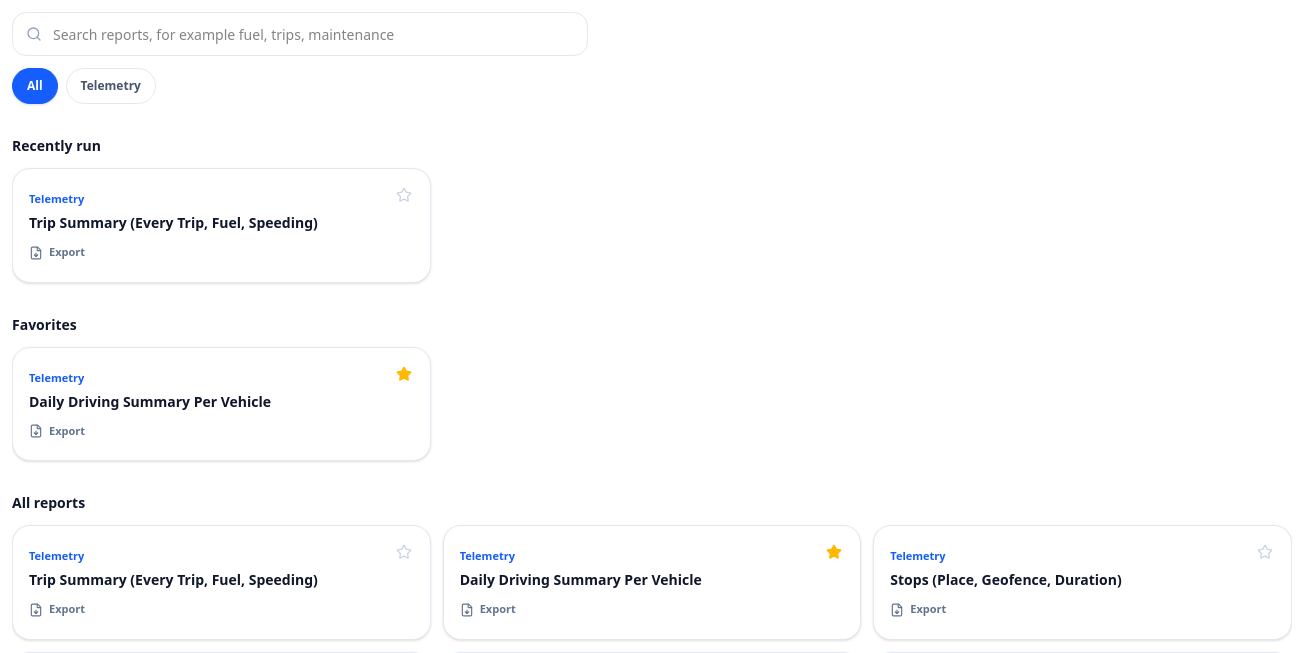
Scenario: report catalog › shows favorites and recently run reports above the full list, and a message when nothing matches
expect the heading "Recently run" is shown: met, box top-left (12, 136), bottom-right (101, 155)
expect the heading "Favorites" is shown: met, box top-left (12, 314), bottom-right (77, 334)
Type "zzzz" into the search field labelled "Search reports" at (300, 34), box top-left (12, 12), bottom-right (588, 56)
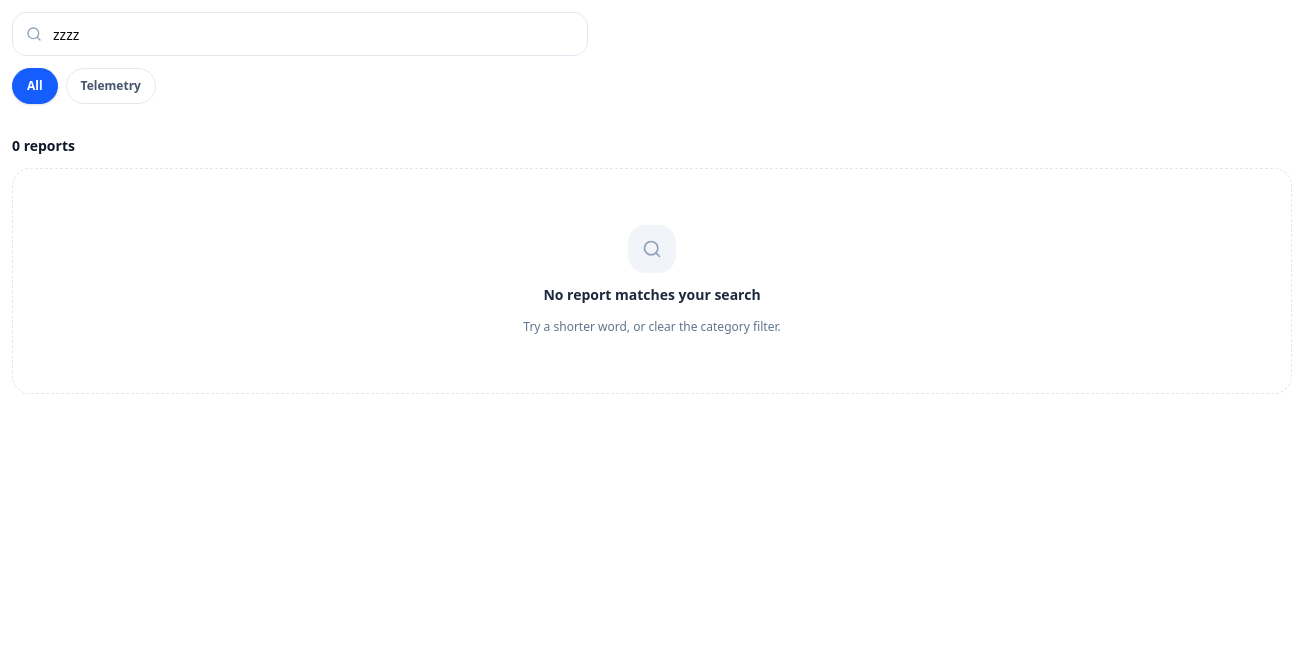
expect the text "No report matches your search" is shown: met, box top-left (543, 285), bottom-right (761, 305)
